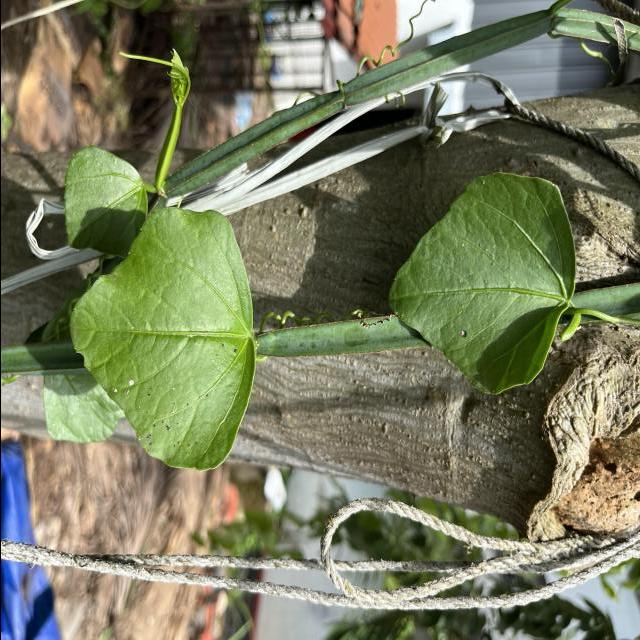Cissus quadrangularis: (64, 202, 258, 474), (383, 168, 578, 397), (61, 142, 150, 260)
